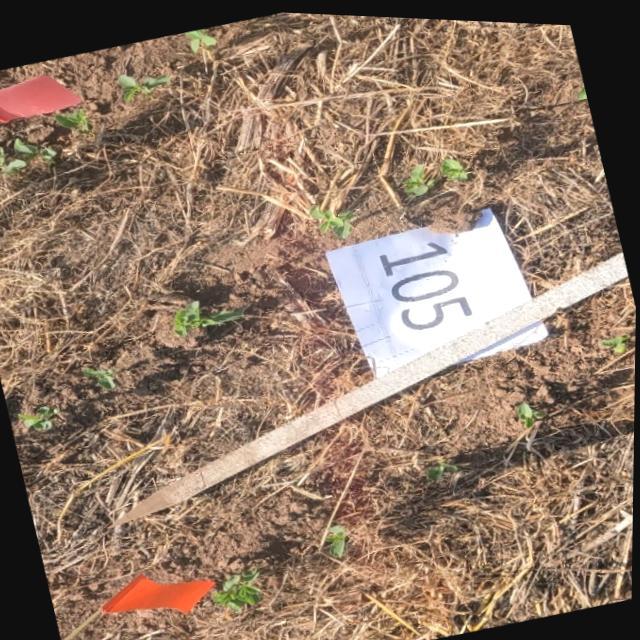soy_plant: (173, 300, 242, 333), (214, 565, 260, 609), (0, 138, 56, 174), (118, 73, 170, 101), (309, 203, 353, 235), (18, 405, 60, 430), (403, 161, 434, 191), (55, 108, 91, 133), (183, 26, 216, 51), (438, 154, 467, 177), (426, 455, 457, 476), (516, 397, 541, 423), (84, 367, 116, 387), (327, 523, 347, 553), (602, 330, 628, 348)
